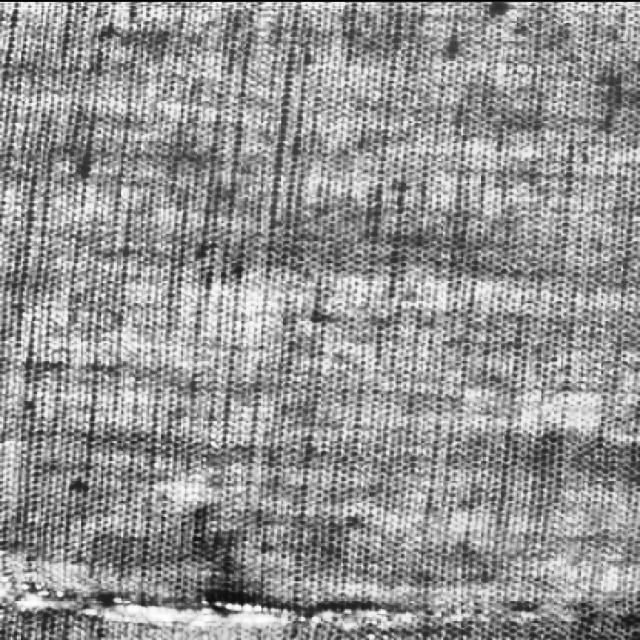thread_error: (3, 573, 638, 640)
